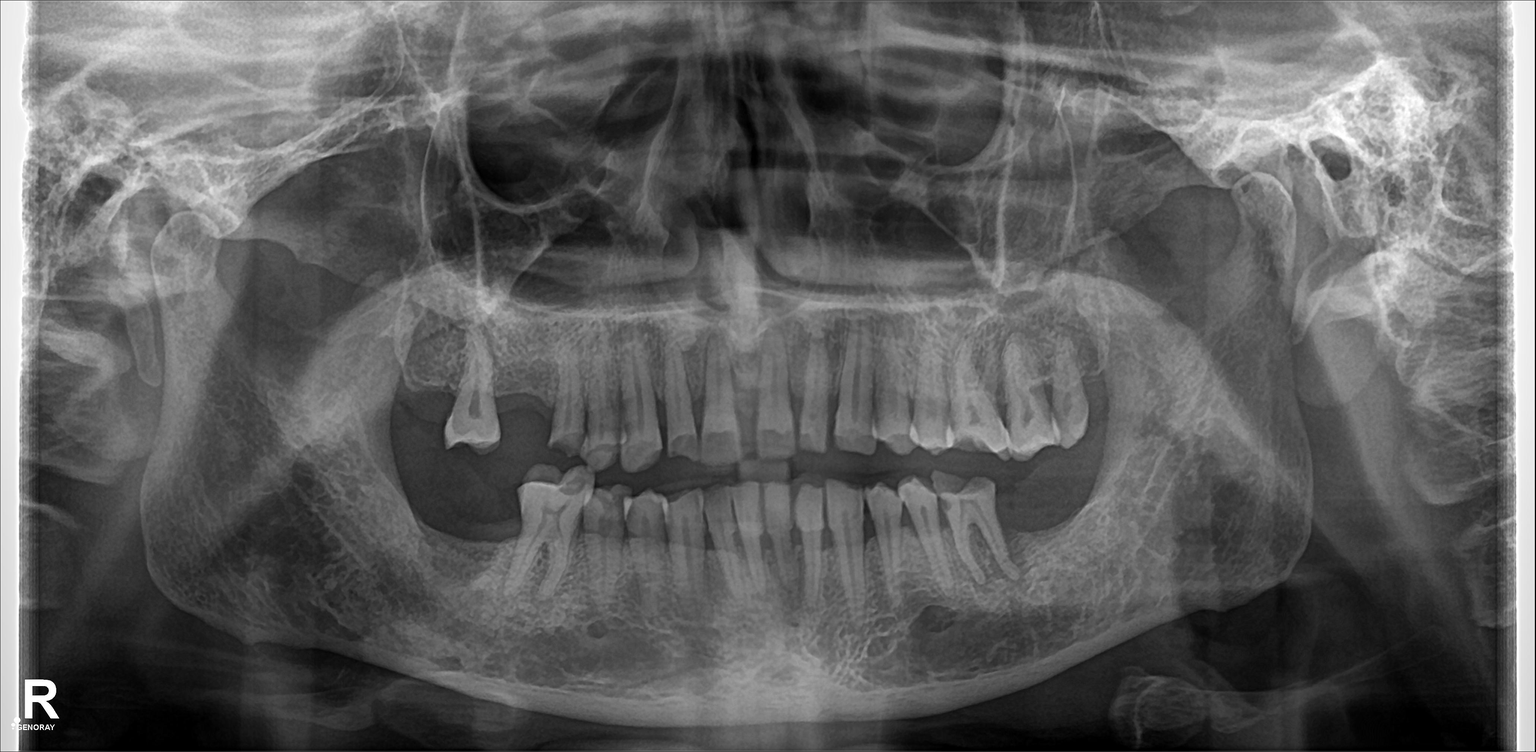Missing Tooth: (1073, 335, 1119, 445), (412, 326, 453, 435), (402, 475, 447, 570), (1061, 458, 1102, 559), (499, 348, 544, 438), (467, 482, 508, 569), (1013, 477, 1052, 560)
